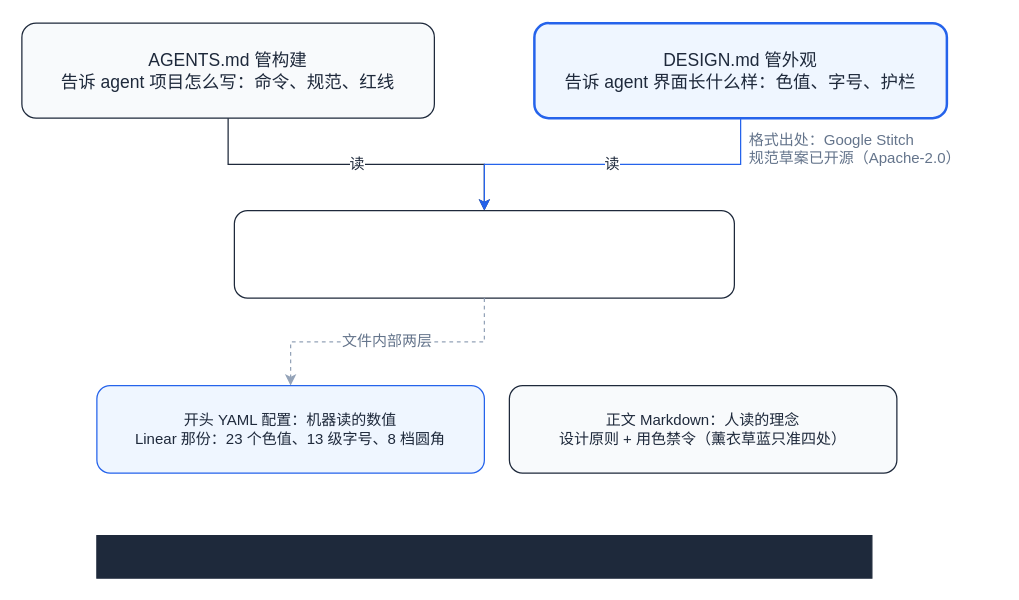
The diagram is 1019 pixels wide and 600 high, and some of its shapes have lost their labels. Here are the shapes that lost their labels. From the top down, the box of each, then its label:
(233, 209, 734, 298): AI 编码 agent 两份都是纯文本，放在项目根目录，复制即用
(96, 534, 872, 578): 两步用法：复制 DESIGN.md 到根目录 → 对 AI 说「按这份规范写界面」
